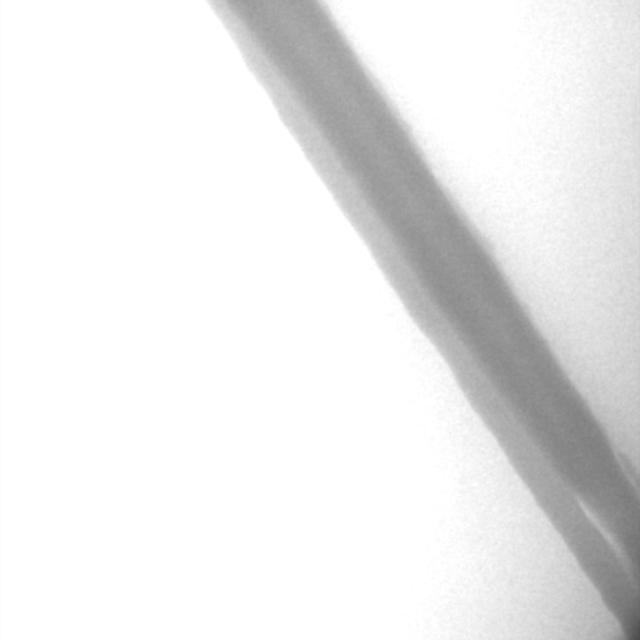unfused: (571, 451, 639, 559)
